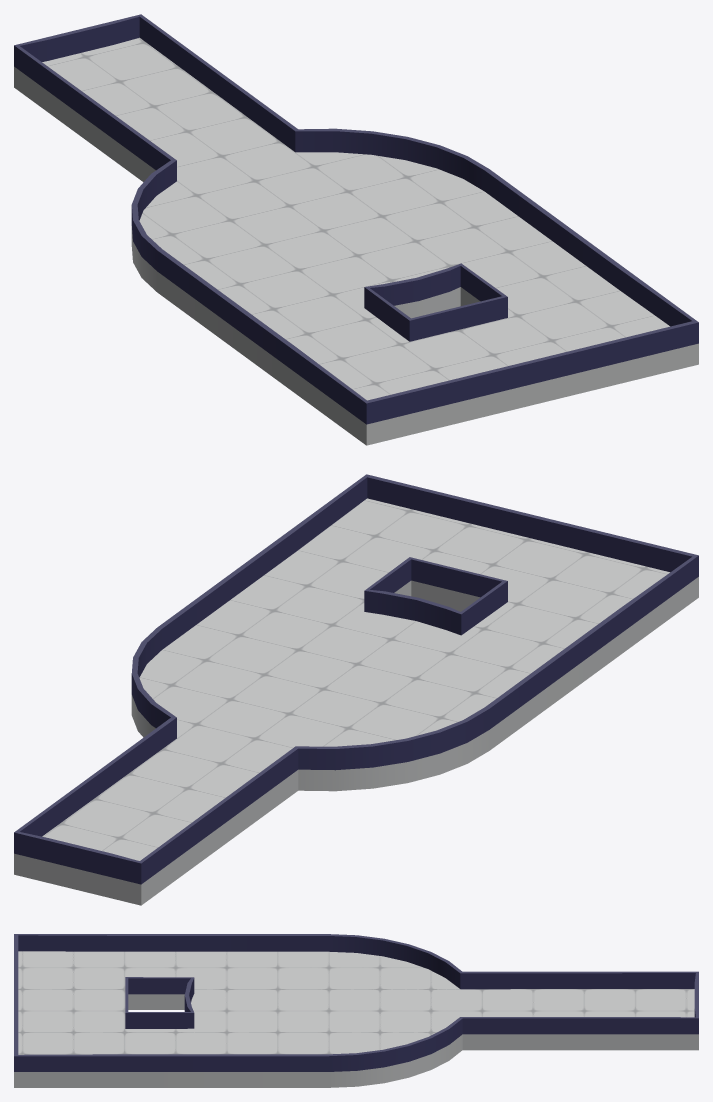
Rendered from single_stage_8.fbx.
The picture shows the model from 3 angles, top to bottom: view 1: azimuth 30°, elevation 25°; view 2: azimuth 150°, elevation 25°; view 3: azimuth 270°, elevation 25°; orthographic projection. The views are drawn at different scales.
Visible parts, largest first — view 1: Cylinder.036, Cylinder.037, Cylinder.038; view 2: Cylinder.036, Cylinder.037, Cylinder.038; view 3: Cylinder.036, Cylinder.037, Cylinder.038.
Part boxes in pixels (x1=…): Cylinder.036: x1=14, y1=37, x2=698, y2=445; Cylinder.037: x1=14, y1=14, x2=698, y2=424; Cylinder.038: x1=364, y1=263, x2=507, y2=341; Cylinder.036: x1=14, y1=498, x2=698, y2=905; Cylinder.037: x1=14, y1=474, x2=698, y2=884; Cylinder.038: x1=364, y1=557, x2=507, y2=635; Cylinder.036: x1=14, y1=951, x2=698, y2=1087; Cylinder.037: x1=14, y1=934, x2=698, y2=1071; Cylinder.038: x1=125, y1=977, x2=194, y2=1028.
Size of the model in its own units: 3300 by 400 by 7825.
